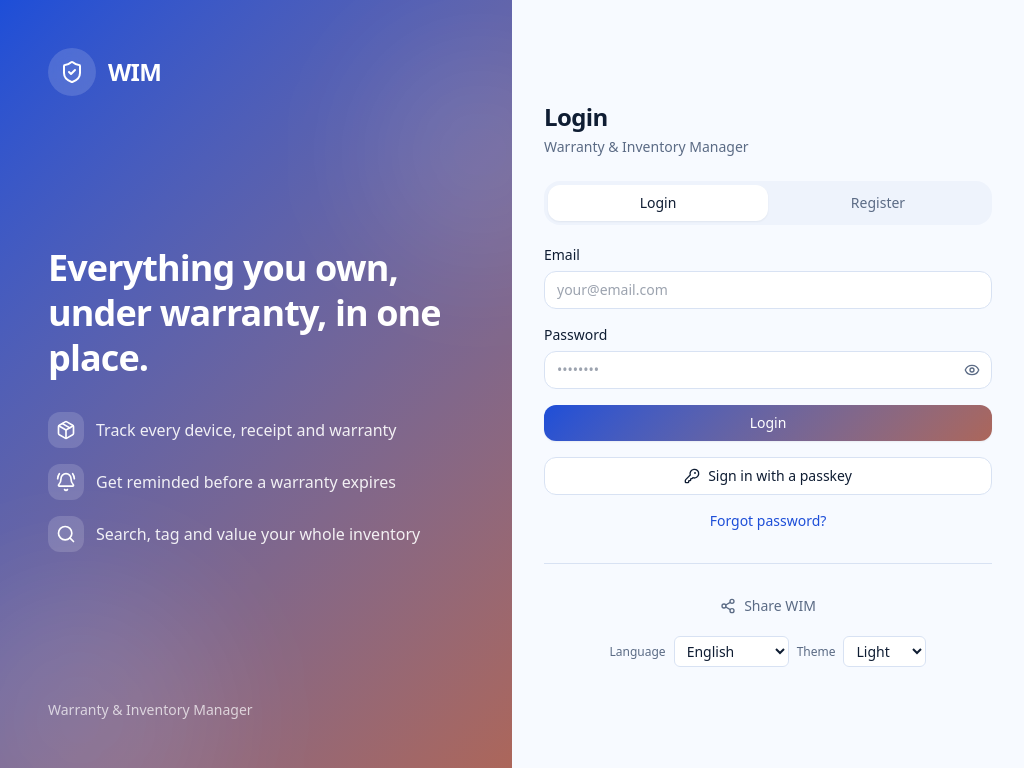
<LoginForm /> › surfaces an invalid-code error in the 2FA step and keeps the prompt open
The width and height of the screenshot is (1024, 768).
Type "alice@example.com" into the field labelled "Email" at (768,290), box [544,271,992,309]
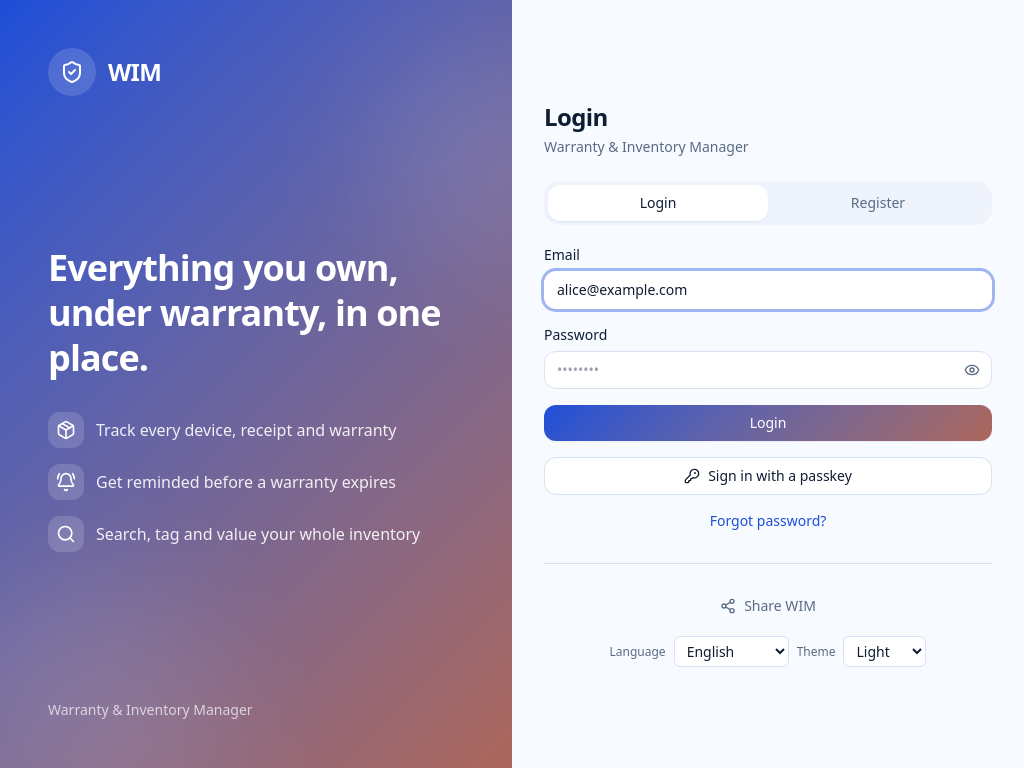
Type "hunter222" into the password field labelled "Password" at (768,370), box [544,351,992,389]
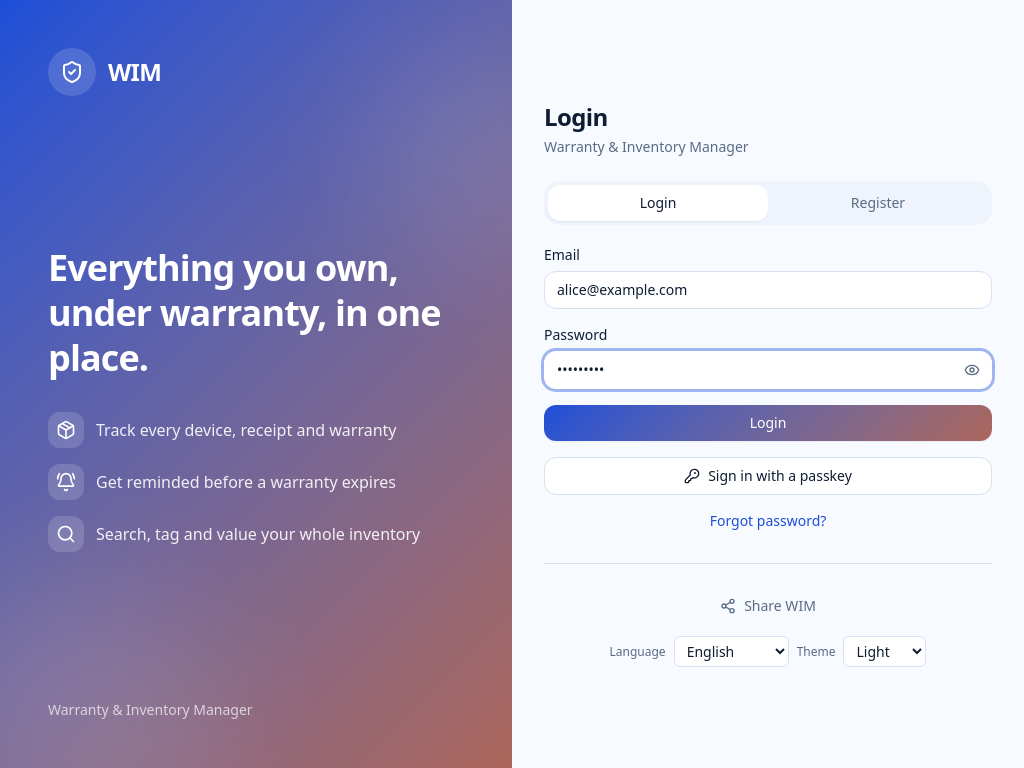
Click the submit button at (768,423), box [544,405,992,441]
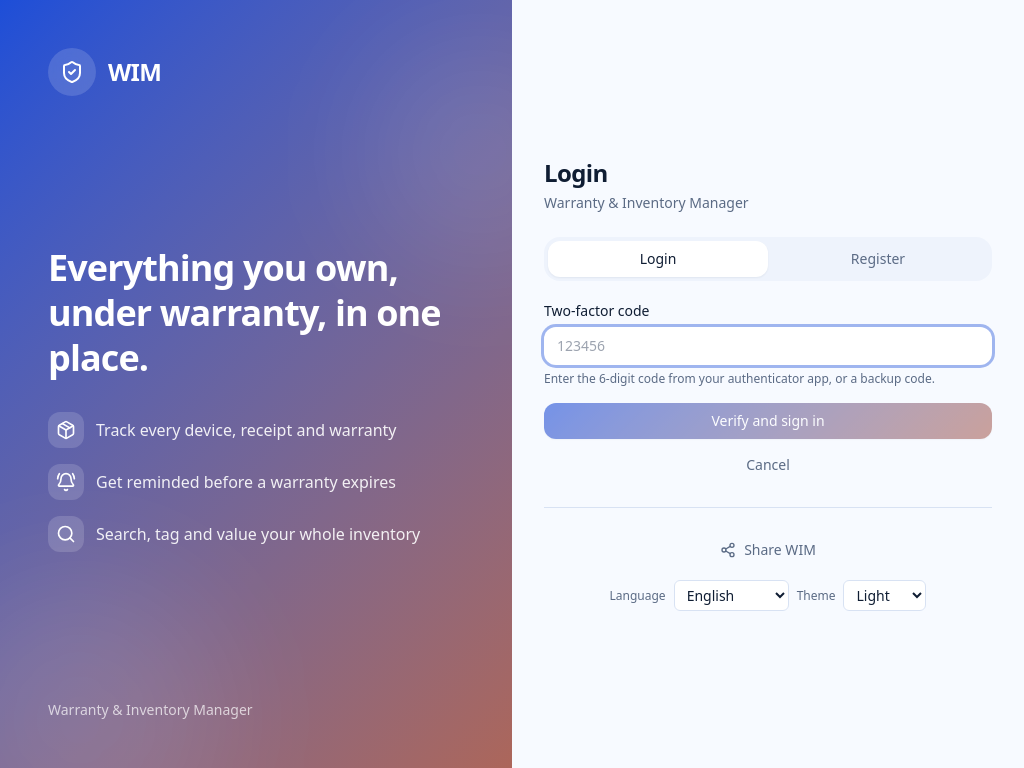
Type "000000" into the field with placeholder "123456" at (768,346), box [544,327,992,365]
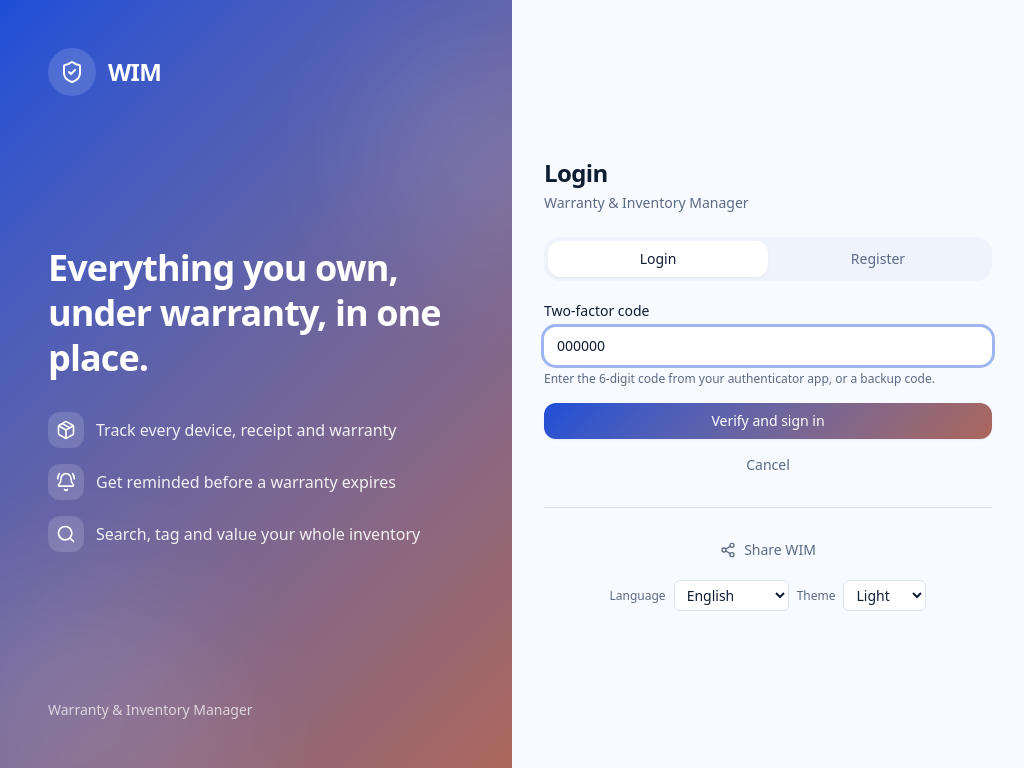
Click the button "Verify and sign in" at (768,421), box [544,403,992,439]
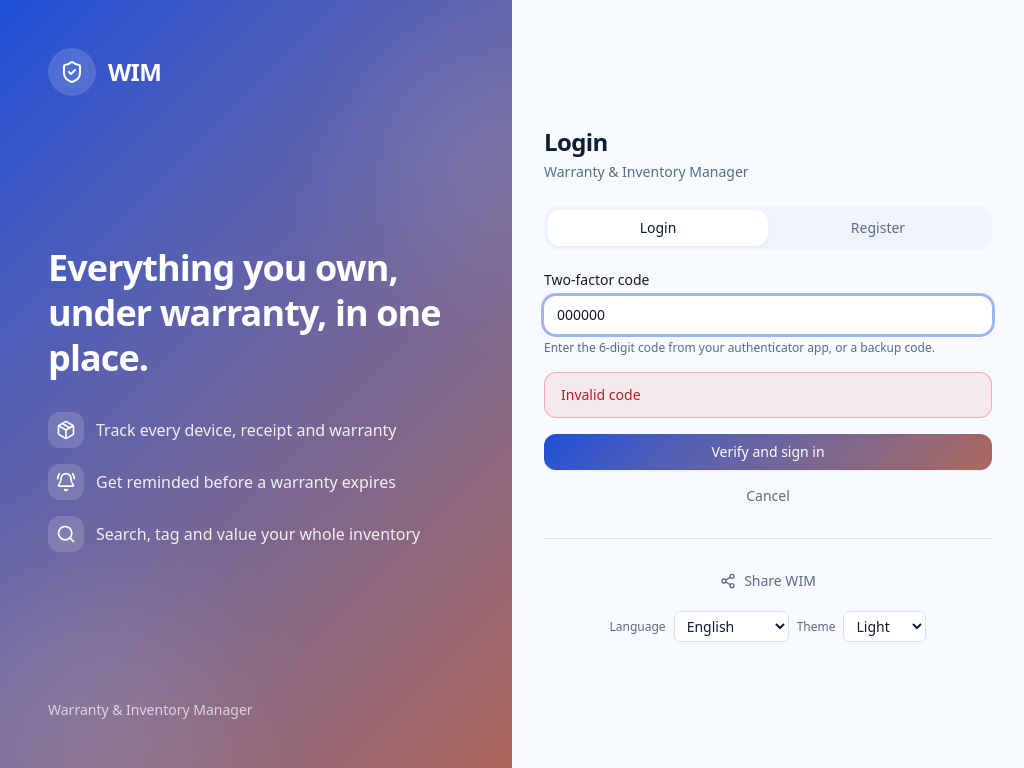
expect the message reads "Invalid code": met, box [561,385,640,404]
